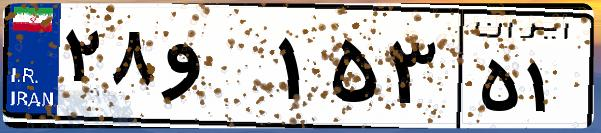1: (270, 28, 330, 110), (525, 38, 570, 115)
2: (57, 26, 110, 100)
3: (385, 28, 445, 110)
5: (330, 28, 385, 110), (475, 38, 525, 113)
8: (110, 28, 158, 98)
و: (158, 20, 270, 120)
